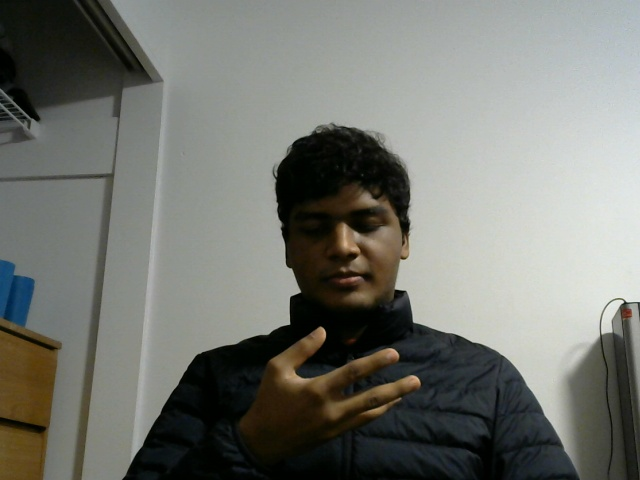Speech: (238, 324, 427, 443)
